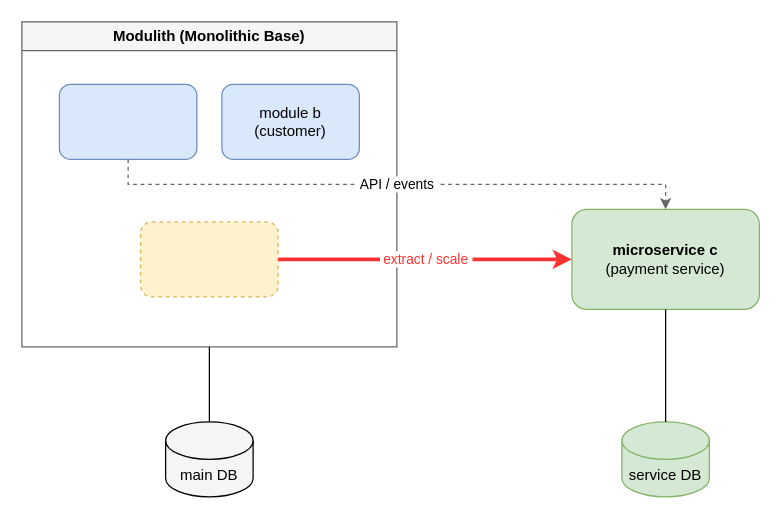
The diagram is 781 pixels wide and 519 high, and some of its shapes have lost their labels. The shapes that lost their labels are listed below. From the top down, each one's centre as x and y in pixels, then its label:
the point at 127,121: module a (order)
the point at 208,259: module c (payment)
